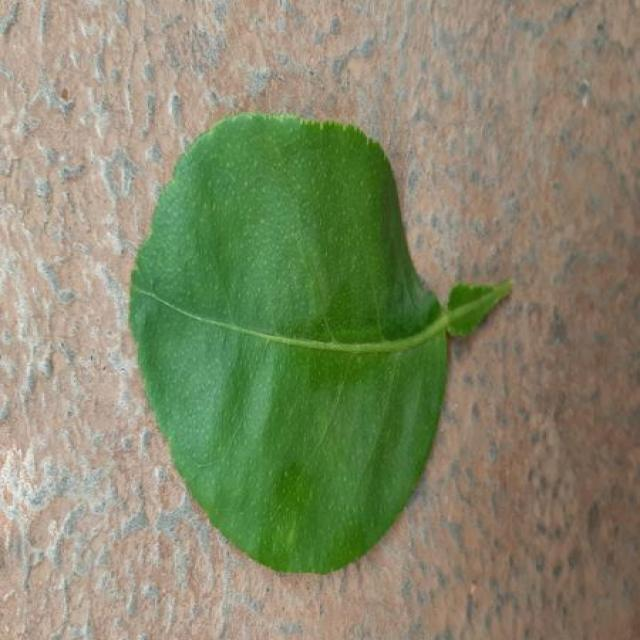lemon: (130, 114, 512, 572)
neem: (130, 114, 512, 572)
